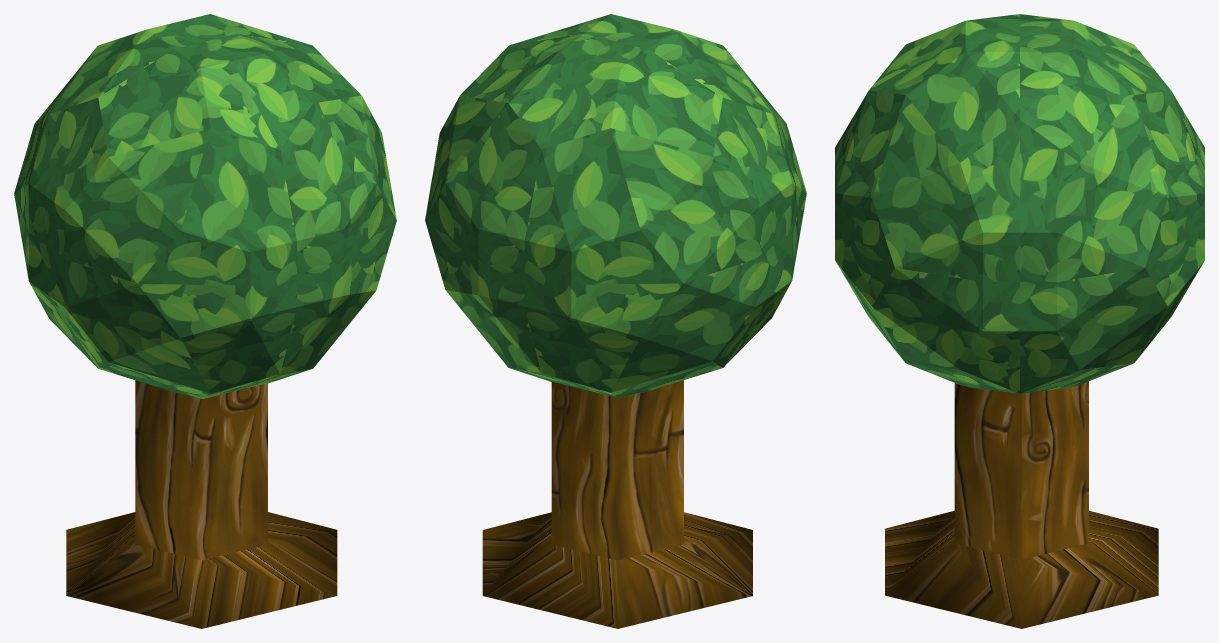
Rendered from tree.FBX.
The picture shows the model from 3 angles, left to right: view 1: azimuth 30°, elevation 25°; view 2: azimuth 150°, elevation 25°; view 3: azimuth 270°, elevation 25°; orthographic projection.
Parts seen in each view (by area): view 1: Hedra001, Capsule001; view 2: Hedra001, Capsule001; view 3: Hedra001, Capsule001.
Part boxes in pixels (x1,y1,x2,y2): Hedra001: (14, 14, 396, 398); Capsule001: (66, 380, 337, 628); Hedra001: (425, 14, 806, 397); Capsule001: (482, 380, 752, 628); Hedra001: (835, 14, 1204, 393); Capsule001: (885, 381, 1158, 628).
Bounding box in the file's own units: 19.22 × 32.25 × 19.22.
2 materials, 2 textured.
